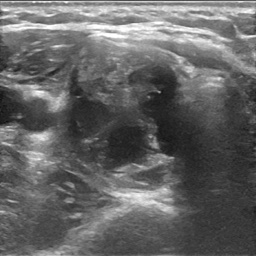mass: (64, 42, 172, 176)
